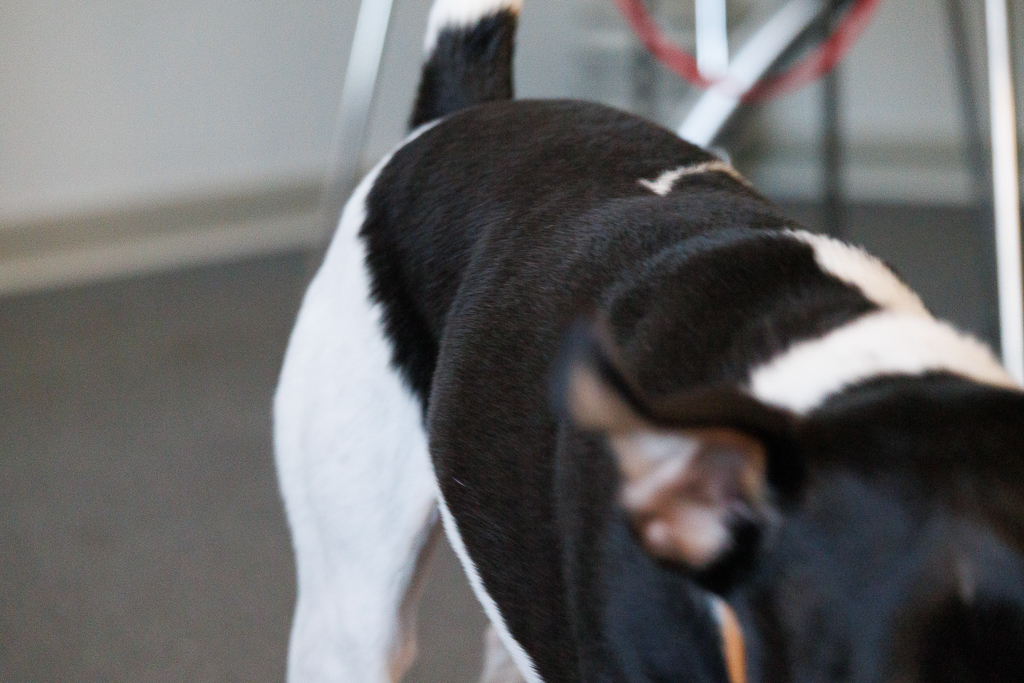Dog: (261, 0, 1023, 683)
